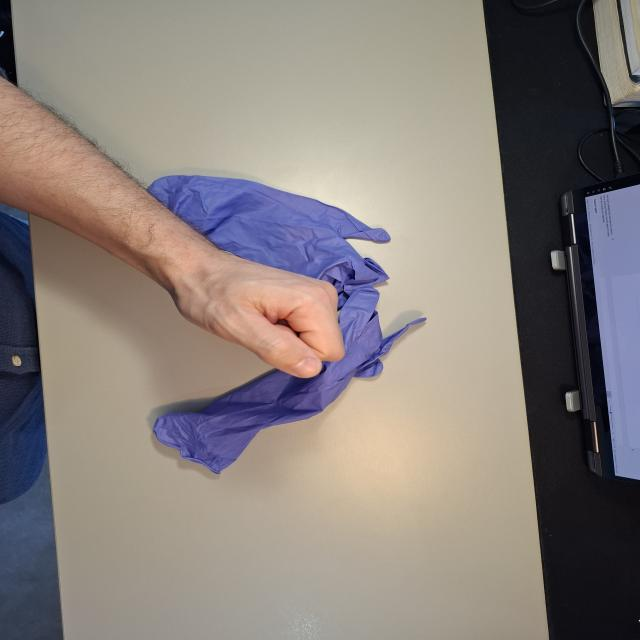glove_off: (159, 247, 351, 379)
